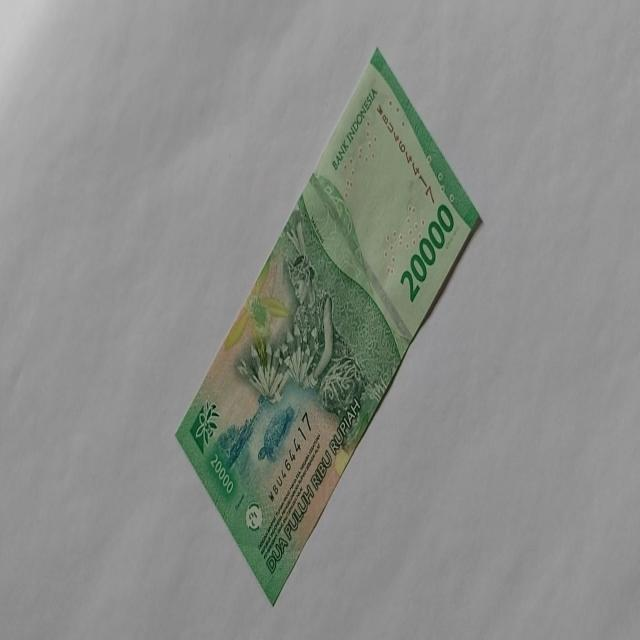dua puluh ribu rupiah: (173, 45, 482, 606)
